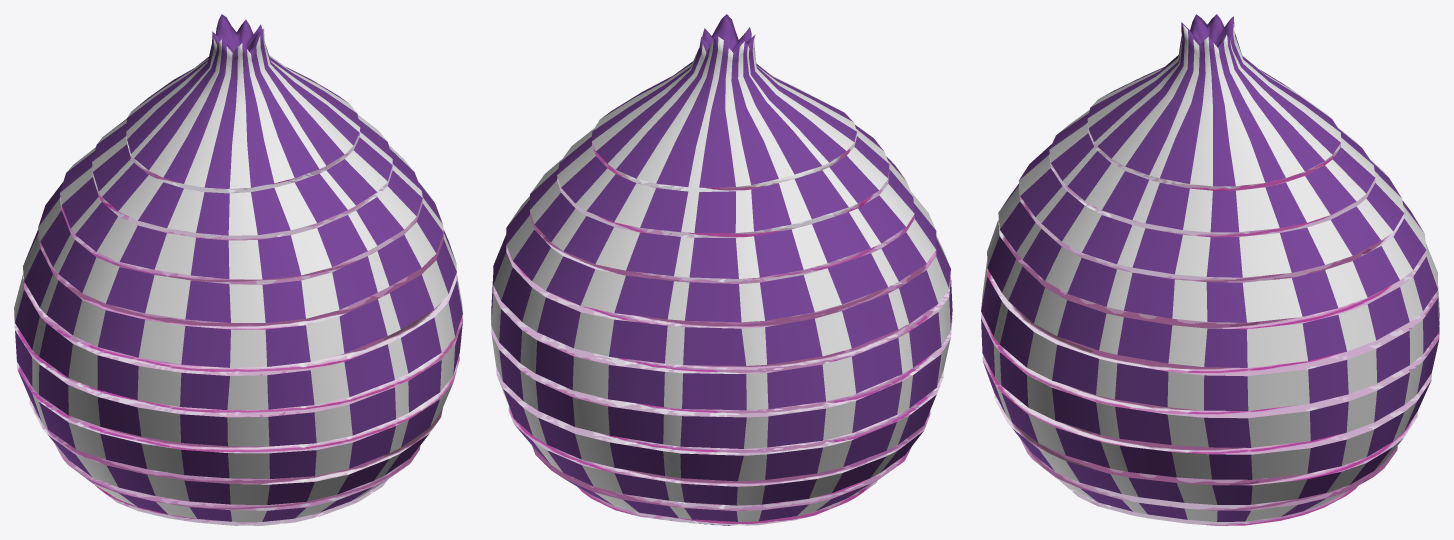
Rendered from onion_sliced.FBX.
3 views of the same model, side by side, from view 1: azimuth 30°, elevation 25°; view 2: azimuth 150°, elevation 25°; view 3: azimuth 270°, elevation 25° (orthographic).
Parts seen in each view (by area): view 1: onion_s0, onion_s4, onion_s5, onion_s3, onion_s2, onion_s6, onion_s1, onion_s7, onion_s8, onion_s9, onion_sx; view 2: onion_s0, onion_s4, onion_s5, onion_s3, onion_s2, onion_s6, onion_s1, onion_s7, onion_s8, onion_s9, onion_sx; view 3: onion_s0, onion_s4, onion_s5, onion_s3, onion_s2, onion_s6, onion_s1, onion_s7, onion_s8, onion_s9, onion_sx.
Boxes of the visible parts, box(x1,y1,x2,y2) form: onion_s0: box(126, 14, 360, 188); onion_s4: box(23, 229, 456, 367); onion_s5: box(14, 273, 462, 410); onion_s3: box(38, 181, 443, 322); onion_s2: box(60, 145, 422, 279); onion_s6: box(14, 315, 462, 446); onion_s1: box(92, 115, 392, 235); onion_s7: box(16, 355, 459, 478); onion_s8: box(29, 399, 442, 504); onion_s9: box(55, 444, 420, 521); onion_sx: box(95, 479, 388, 525); onion_s0: box(592, 14, 856, 187); onion_s4: box(493, 234, 950, 365); onion_s5: box(491, 275, 952, 410); onion_s3: box(506, 192, 936, 322); onion_s2: box(530, 156, 914, 278); onion_s6: box(491, 317, 952, 448); onion_s1: box(557, 125, 889, 233); onion_s7: box(496, 368, 943, 481); onion_s8: box(508, 407, 930, 505); onion_s9: box(532, 446, 911, 521); onion_sx: box(578, 480, 877, 525); onion_s0: box(1087, 14, 1340, 186); onion_s4: box(987, 219, 1437, 367); onion_s5: box(981, 260, 1439, 410); onion_s3: box(998, 184, 1426, 322); onion_s2: box(1019, 144, 1404, 277); onion_s6: box(981, 313, 1439, 447); onion_s1: box(1049, 110, 1375, 232); onion_s7: box(982, 355, 1431, 479); onion_s8: box(994, 394, 1417, 504); onion_s9: box(1020, 439, 1397, 521); onion_sx: box(1060, 481, 1357, 525).
Bounding box in the file's own units: 11.96 × 14.08 × 11.97.
3 materials, 1 textured.
